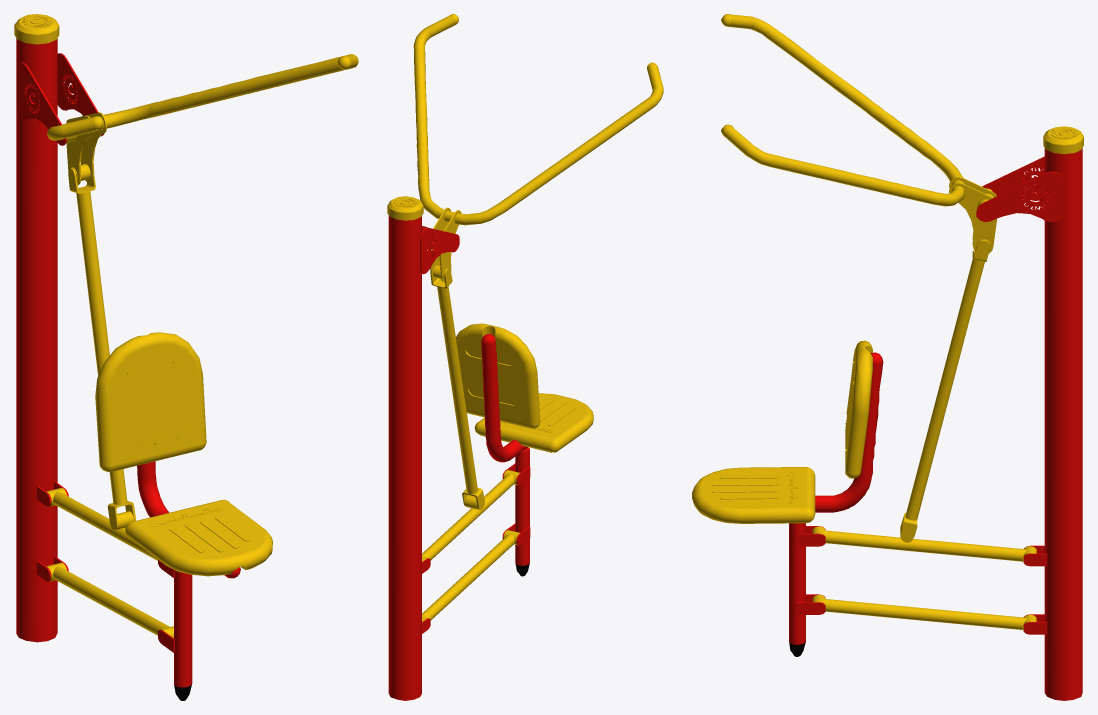
File: 13025-Dorsalera Simple.FBX
3 views of the same model, side by side, from view 1: azimuth 30°, elevation 25°; view 2: azimuth 150°, elevation 25°; view 3: azimuth 270°, elevation 25° (orthographic). The views are drawn at different scales.
Bounding box in the file's own units: 37.74 × 80.66 × 45.98.
